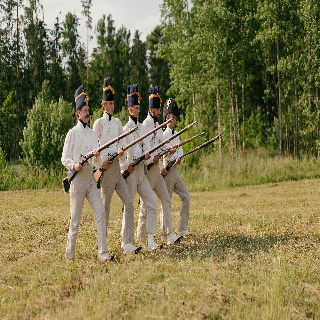rifle: (94, 118, 173, 190), (62, 125, 140, 193), (122, 121, 197, 180), (145, 131, 205, 175), (162, 135, 222, 178)
